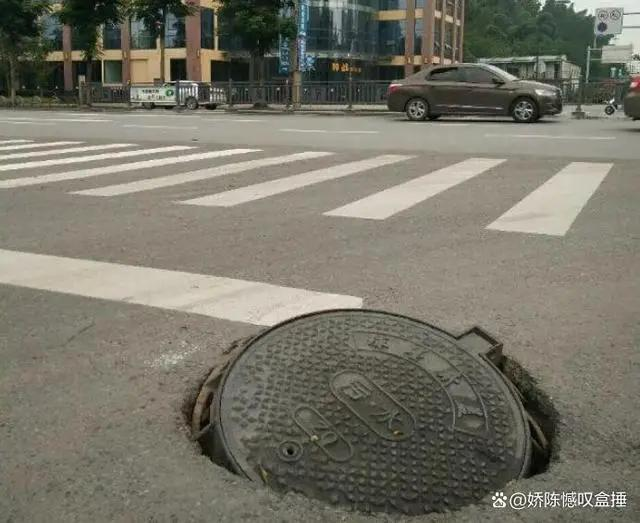wellcover: (197, 304, 579, 522)
